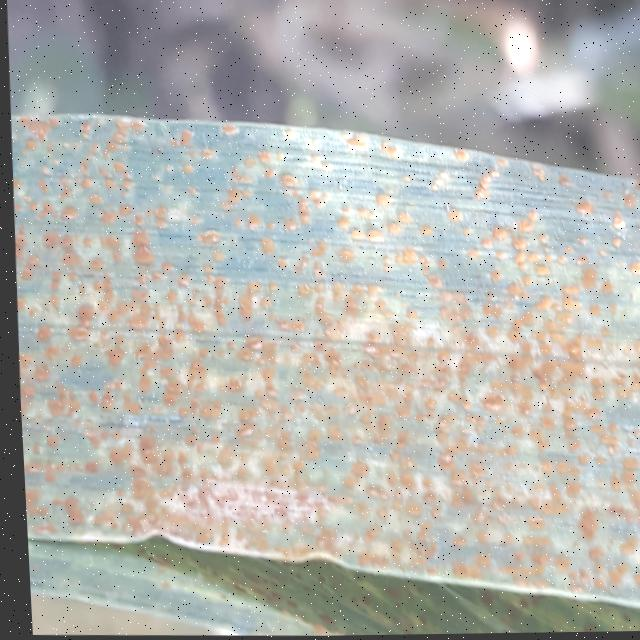orang_rust: (4, 94, 640, 640)
